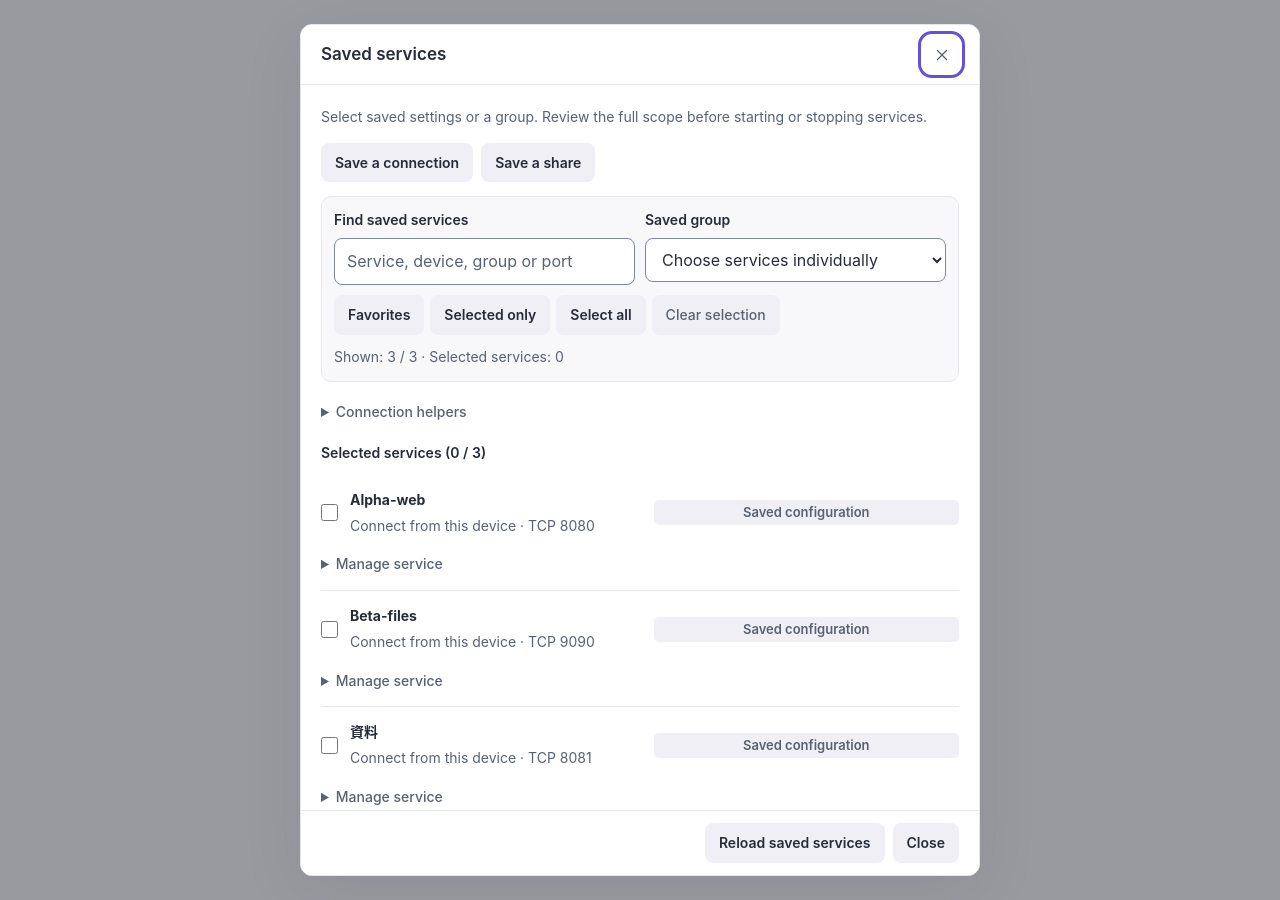
Test: saved favorites controls › leaves ordinary saved navigation usable when preference loading fails
Expected: the search field labelled "Find saved services" is shown, [334,238,635,285]
Click the button "Favorites".
click(379, 315)  # box [334,295,424,335]
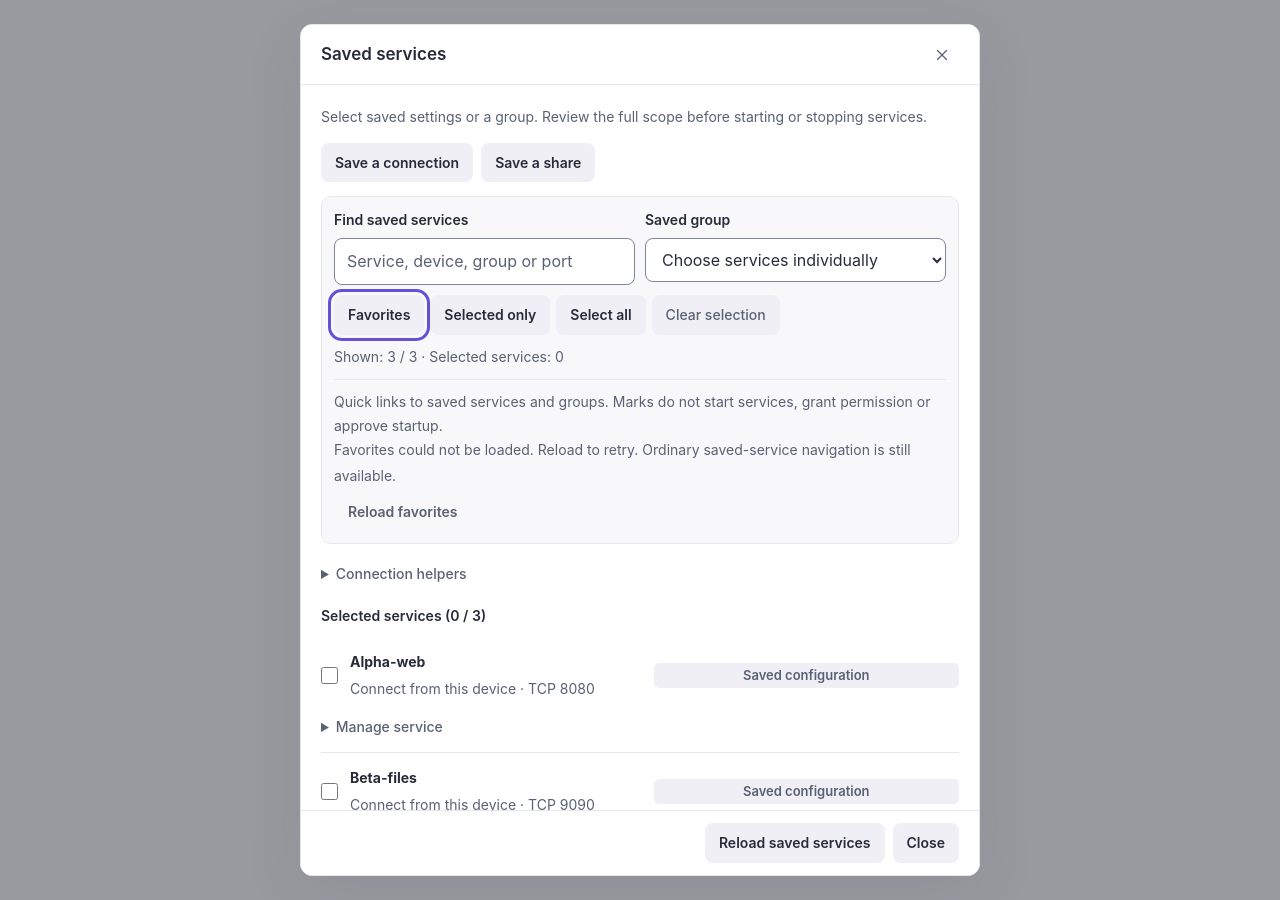
Expected: the text "Favorites could not be loaded. Reload to retry. Ordinary saved-service navigation is still available." is shown, [334,441,911,484]
Click the button "Select all".
click(601, 315)  # box [556,295,646,335]
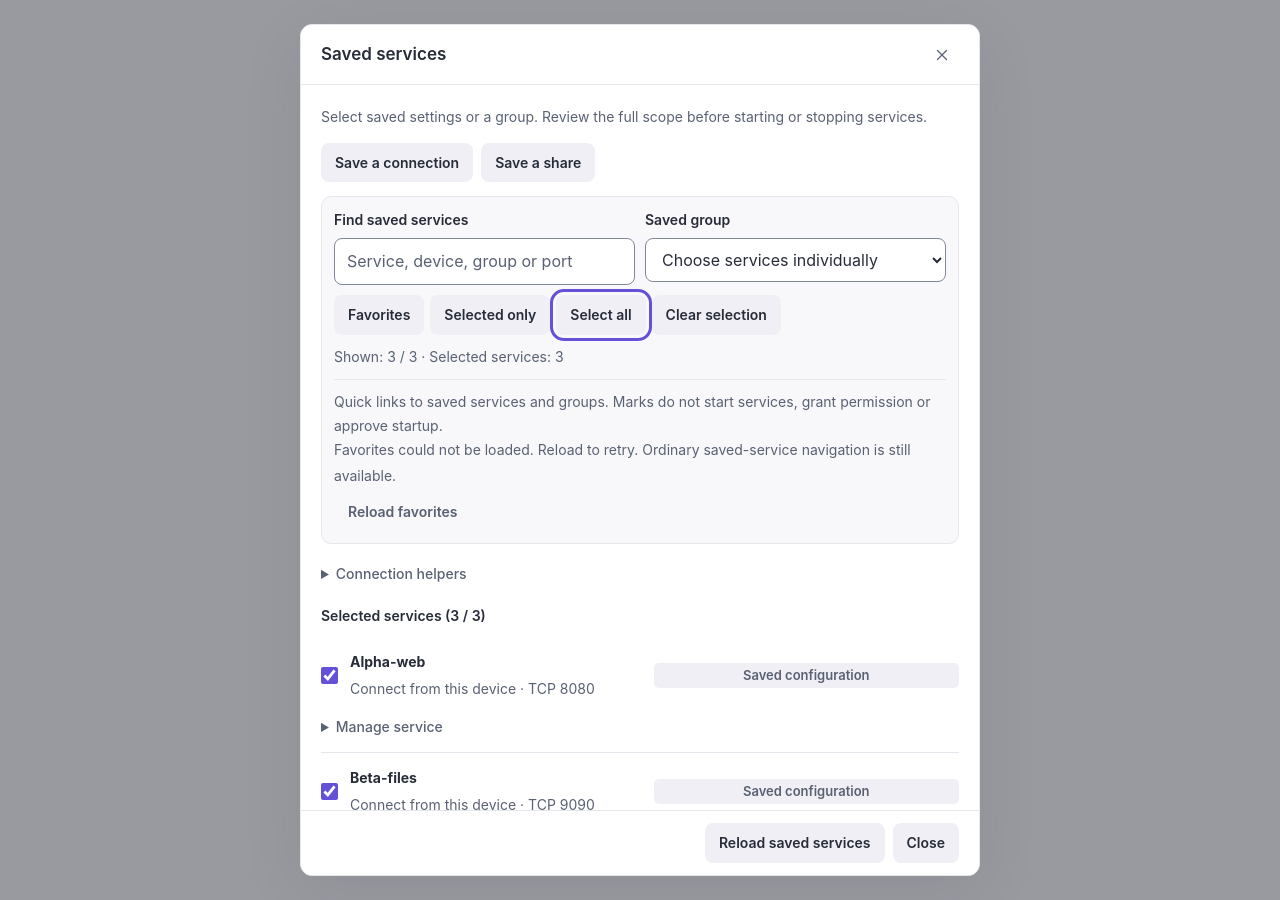
Click the button "Reload favorites".
click(403, 512)  # box [334,492,471,531]
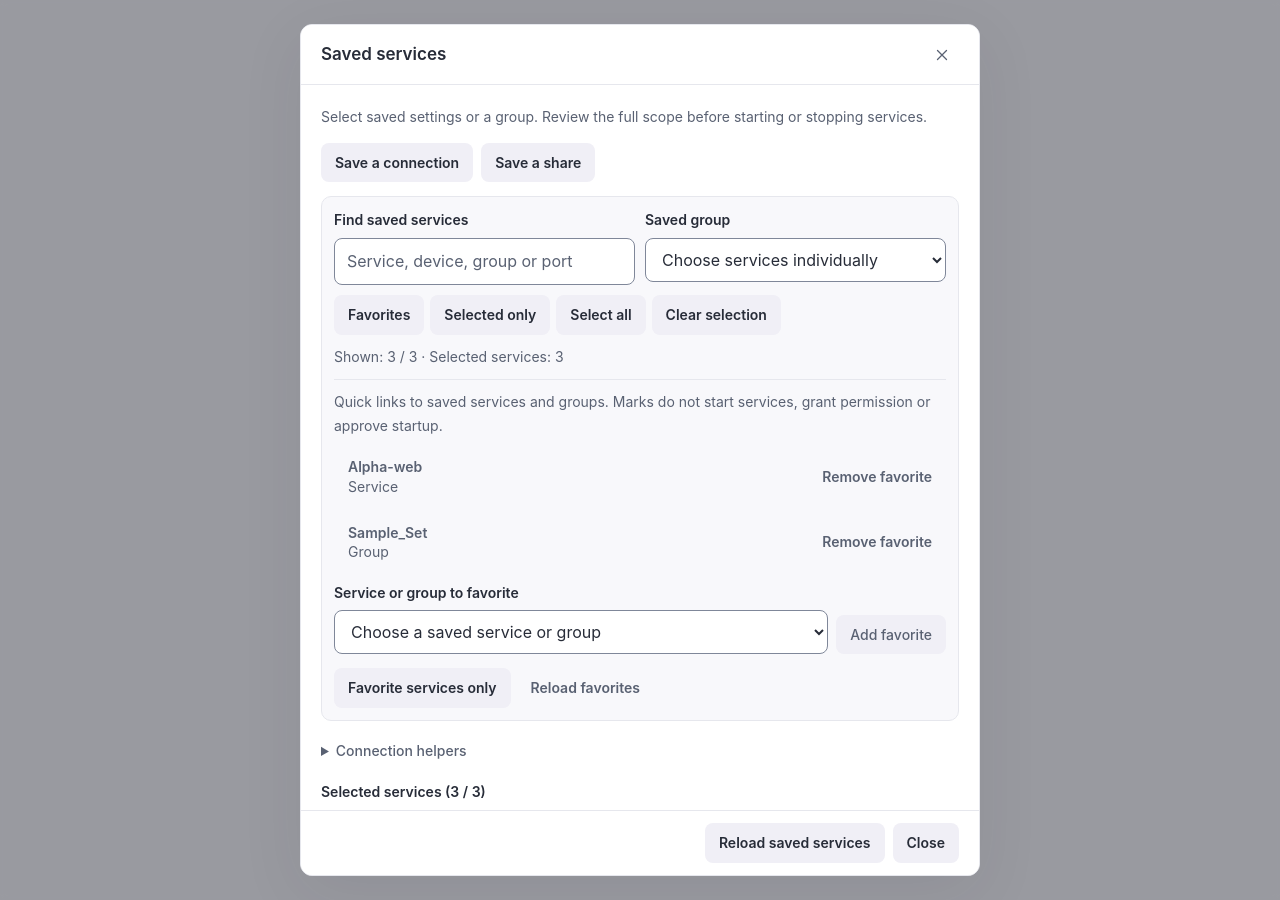
Expected: the dropdown labelled "Service or group to favorite" is shown, [334,610,828,654]
